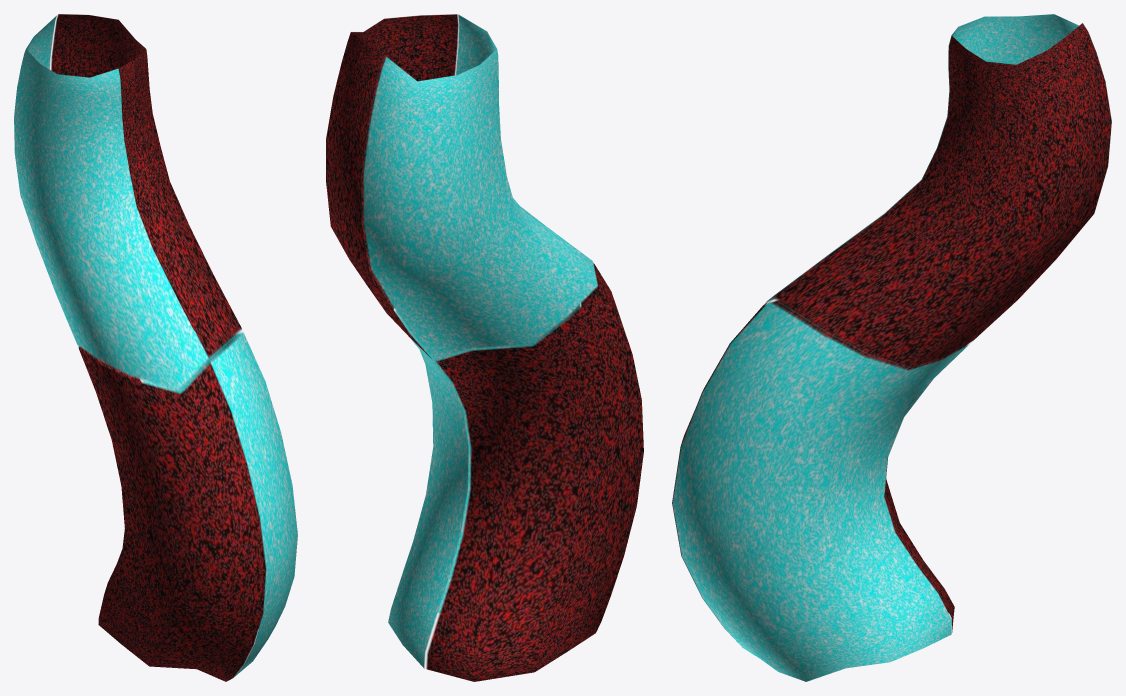
The picture shows the model from 3 angles, left to right: view 1: azimuth 30°, elevation 25°; view 2: azimuth 150°, elevation 25°; view 3: azimuth 270°, elevation 25°; orthographic projection. The views are drawn at different scales.
Visible parts, largest first — view 1: SM_VFX_WispA_LOD0; view 2: SM_VFX_WispA_LOD0; view 3: SM_VFX_WispA_LOD0.
Part boxes in pixels (x1,y1,x2,y2): SM_VFX_WispA_LOD0: (14,14,297,681); SM_VFX_WispA_LOD0: (326,14,643,681); SM_VFX_WispA_LOD0: (672,14,1111,681).
Size of the model in its own units: 4.3 by 16.62 by 10.64.
1 material, 1 textured.
